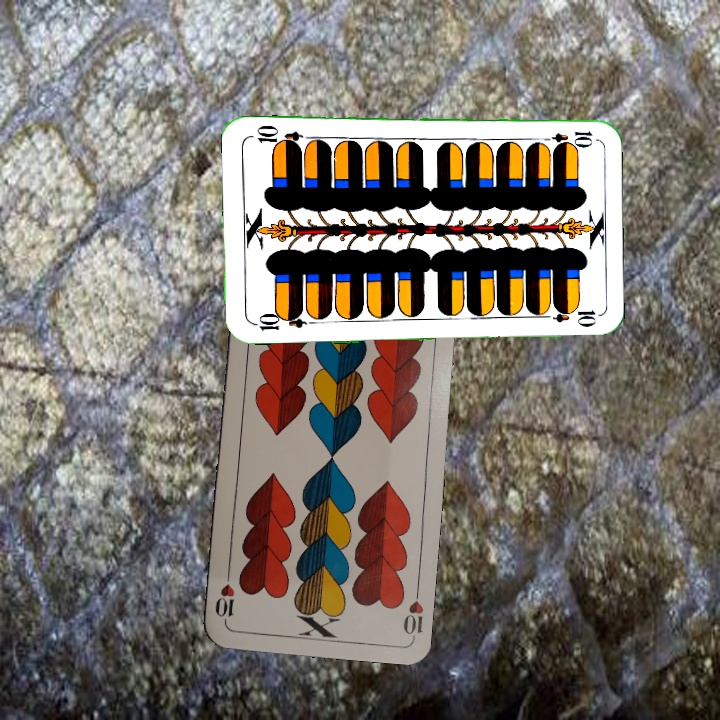E10: (249, 308, 308, 334), (536, 127, 595, 146)
H10: (399, 580, 426, 639)
